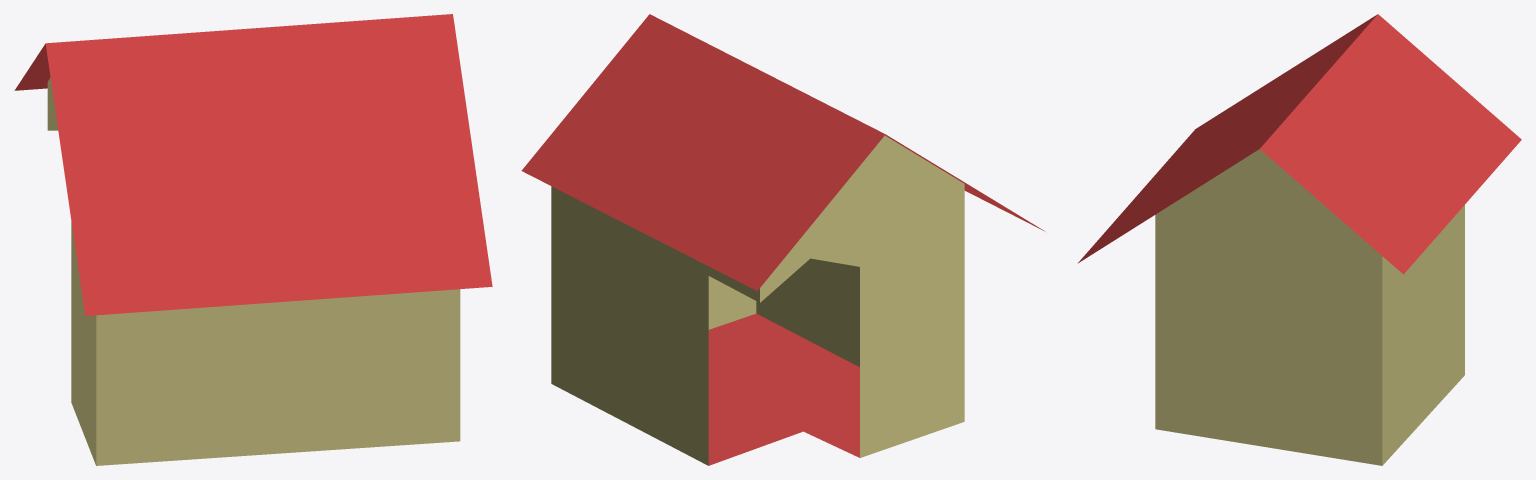
3 renders of one model, left to right at view 1: azimuth 30°, elevation 25°; view 2: azimuth 150°, elevation 25°; view 3: azimuth 270°, elevation 25°, orthographic. The views are drawn at different scales.
Bounding box in the file's own units: 21.19 × 21.41 × 16.08.
